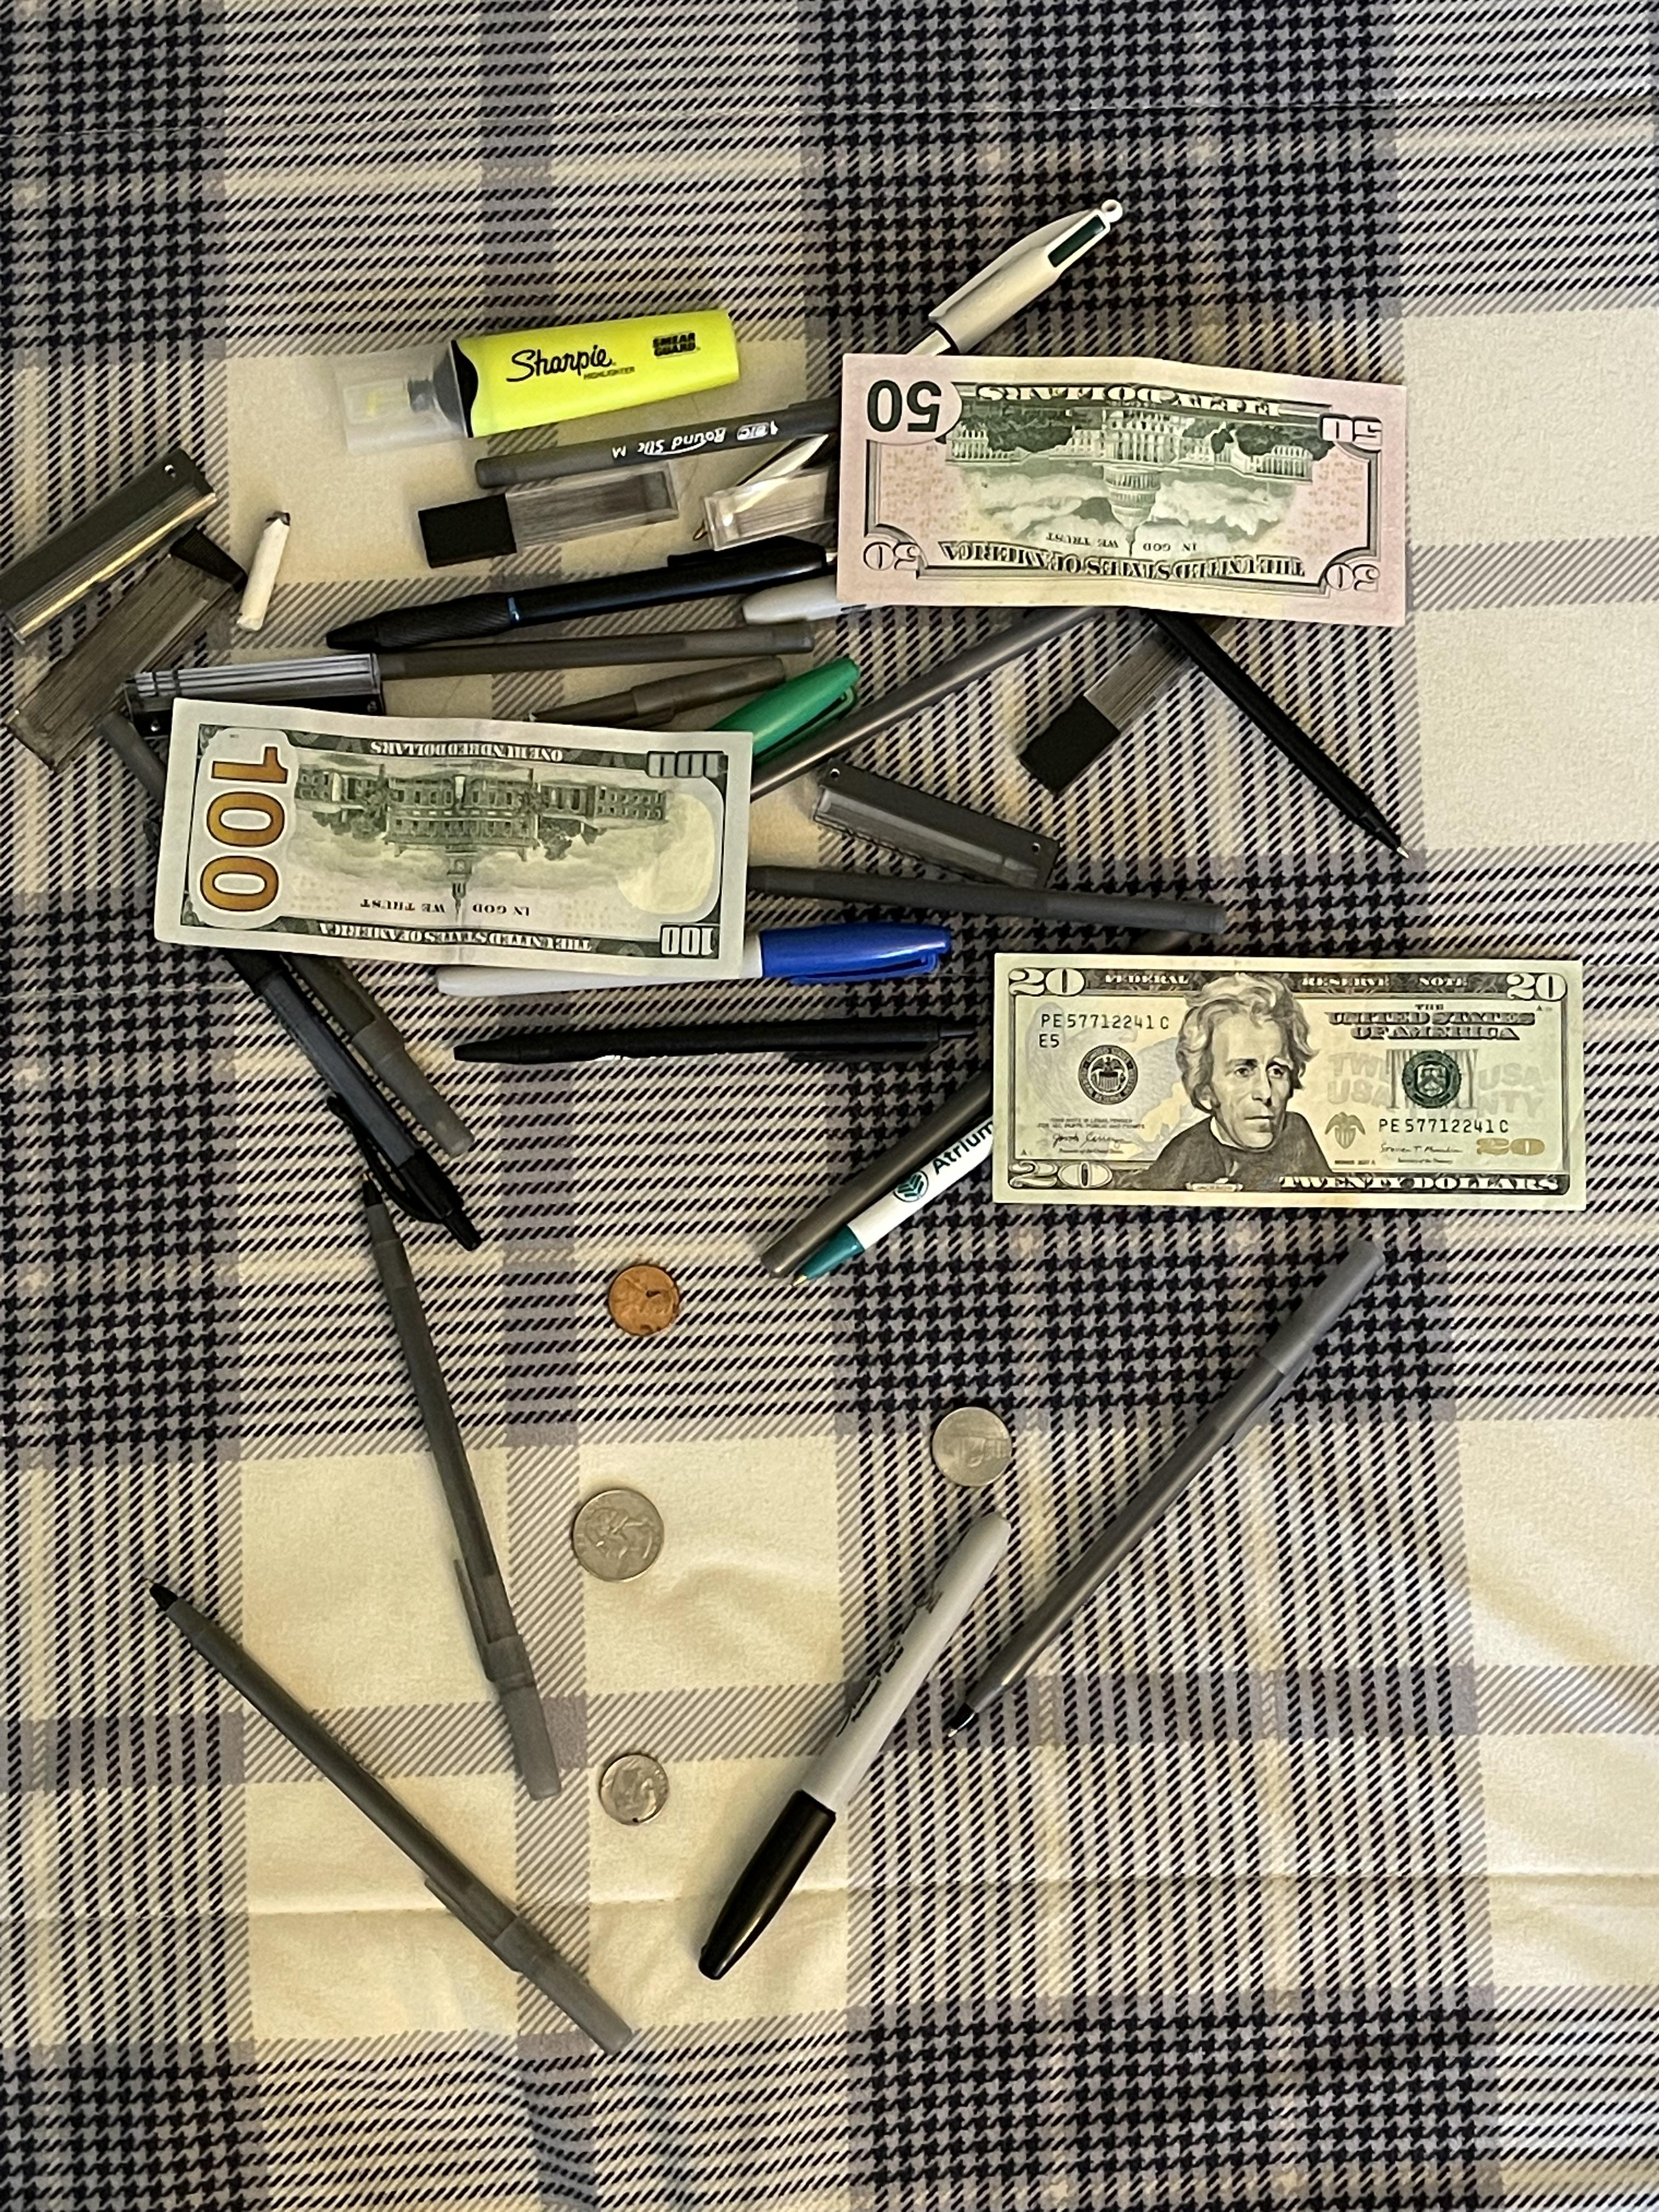Dime: (599, 1754, 669, 1827)
FiftyBill: (835, 350, 1408, 629)
HundredBill: (153, 697, 756, 982)
Nickel: (931, 1406, 1012, 1487)
Penny: (606, 1264, 681, 1338)
Quarter: (572, 1489, 666, 1583)
TwentyBill: (990, 951, 1588, 1212)
